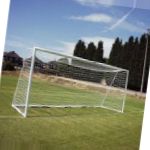goals: (11, 45, 130, 122)
